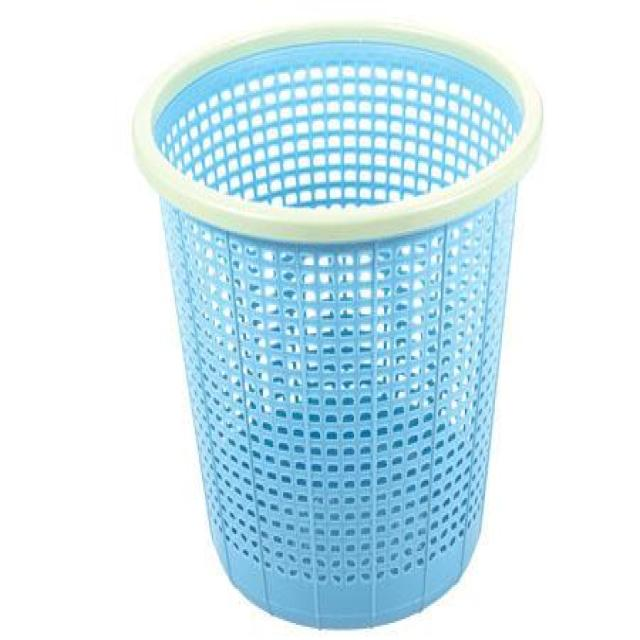dustbin: (124, 8, 546, 633)
